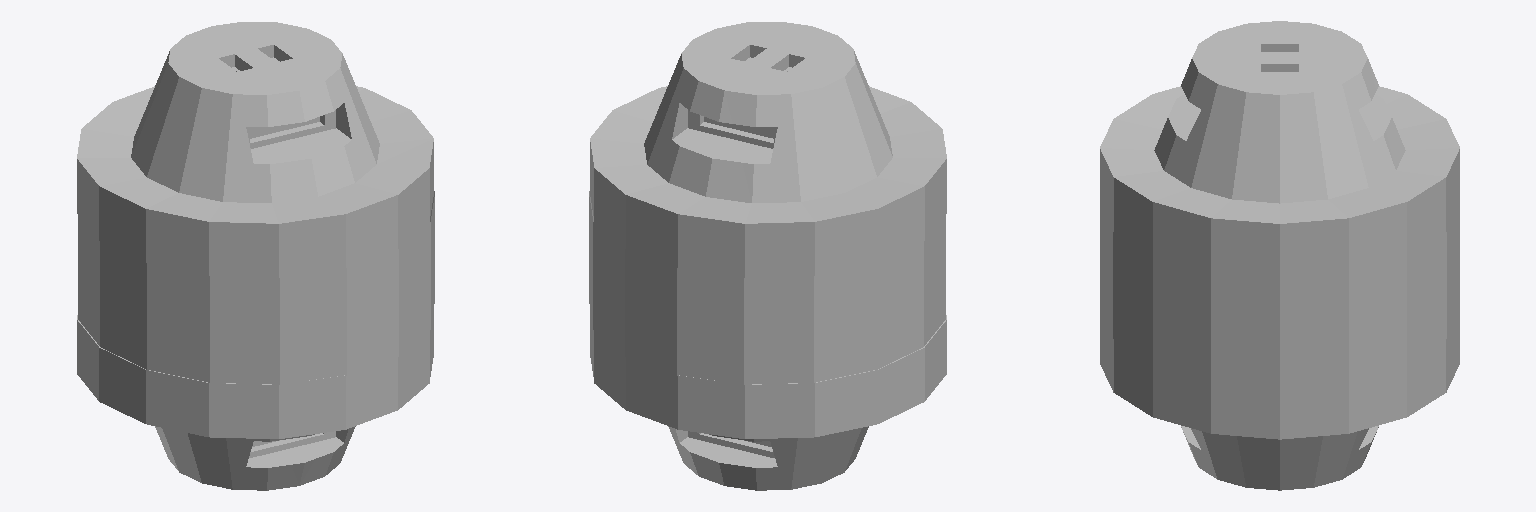
Rendered from Core_III.obj.
3 renders of one model, left to right at view 1: azimuth 30°, elevation 25°; view 2: azimuth 150°, elevation 25°; view 3: azimuth 270°, elevation 25°, orthographic.
Parts seen in each view (by area): view 1: Core_III_C3Mesh, Core_III_Glass_C3GlsMesh; view 2: Core_III_C3Mesh, Core_III_Glass_C3GlsMesh; view 3: Core_III_C3Mesh, Core_III_Glass_C3GlsMesh.
Boxes of the visible parts, <box> form: Core_III_C3Mesh: <box>77,22,433,490</box>; Core_III_Glass_C3GlsMesh: <box>78,191,434,384</box>; Core_III_C3Mesh: <box>590,22,946,490</box>; Core_III_Glass_C3GlsMesh: <box>589,191,945,384</box>; Core_III_C3Mesh: <box>1100,21,1459,490</box>; Core_III_Glass_C3GlsMesh: <box>1100,204,1459,385</box>.
Bounding box in the file's own units: 1.5 × 1.81 × 1.5.